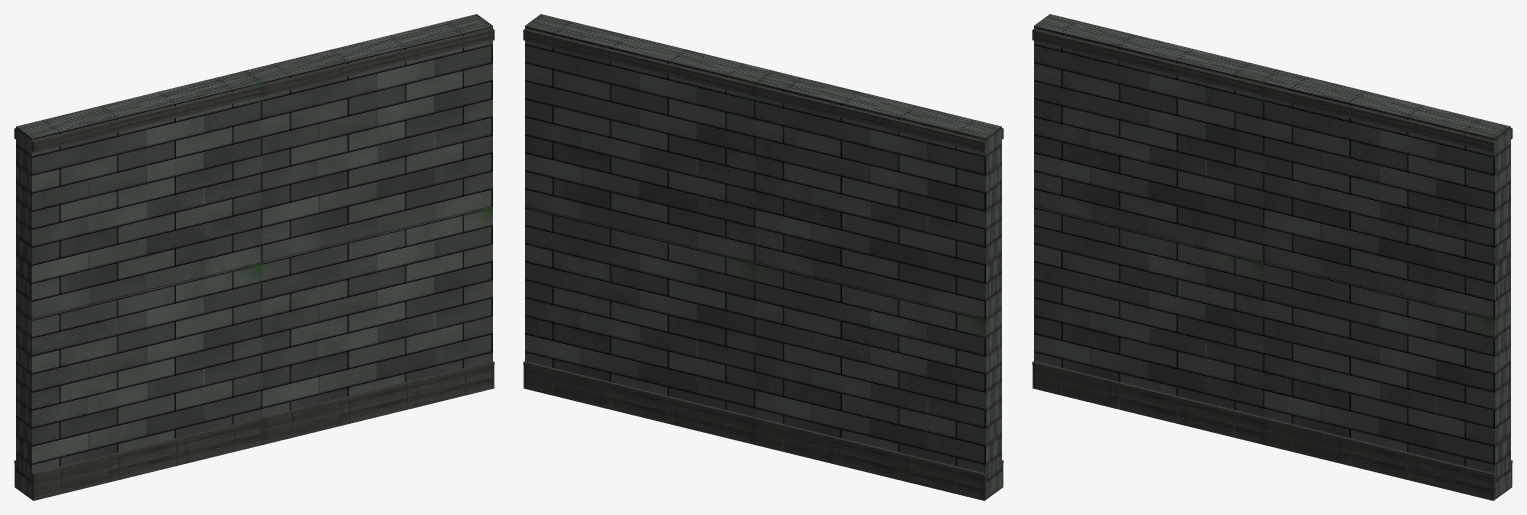
The model's file is wall_brick.glb.
The picture shows the model from 3 angles, left to right: view 1: azimuth 30°, elevation 25°; view 2: azimuth 150°, elevation 25°; view 3: azimuth 330°, elevation 25°; orthographic projection.
Visible parts, largest first — view 1: Wall, Art_StoneLedge; view 2: Wall, Art_StoneLedge; view 3: Wall, Art_StoneLedge.
Part boxes in pixels (x1,y1,x2,y2): Wall: (16,14,492,499); Art_StoneLedge: (14,29,494,500); Wall: (525,14,1001,499); Art_StoneLedge: (523,29,1003,500); Wall: (1034,14,1510,499); Art_StoneLedge: (1032,29,1512,500).
Size of what is drawn, in the model's own units: 4 by 3 by 0.293.
Materials: 2 (2 with a texture image).
